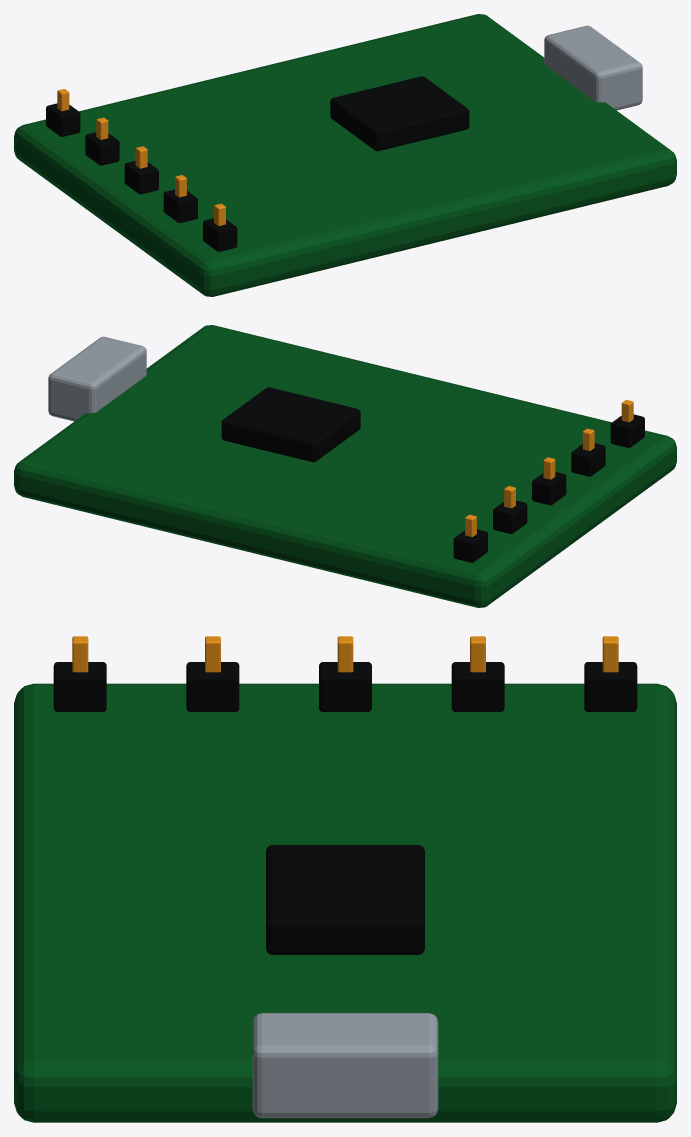
The model's file is board.obj.
The picture shows the model from 3 angles, top to bottom: view 1: azimuth 30°, elevation 25°; view 2: azimuth 150°, elevation 25°; view 3: azimuth 270°, elevation 25°; orthographic projection. The views are drawn at different scales.
Visible parts, largest first — view 1: board; view 2: board; view 3: board.
Part boxes in pixels (left/top/right/bottom): board: left=14, top=14, right=676, bottom=296; board: left=14, top=325, right=676, bottom=607; board: left=14, top=636, right=676, bottom=1122.
Size of the model in its own units: 0.075 by 0.0105 by 0.05.
